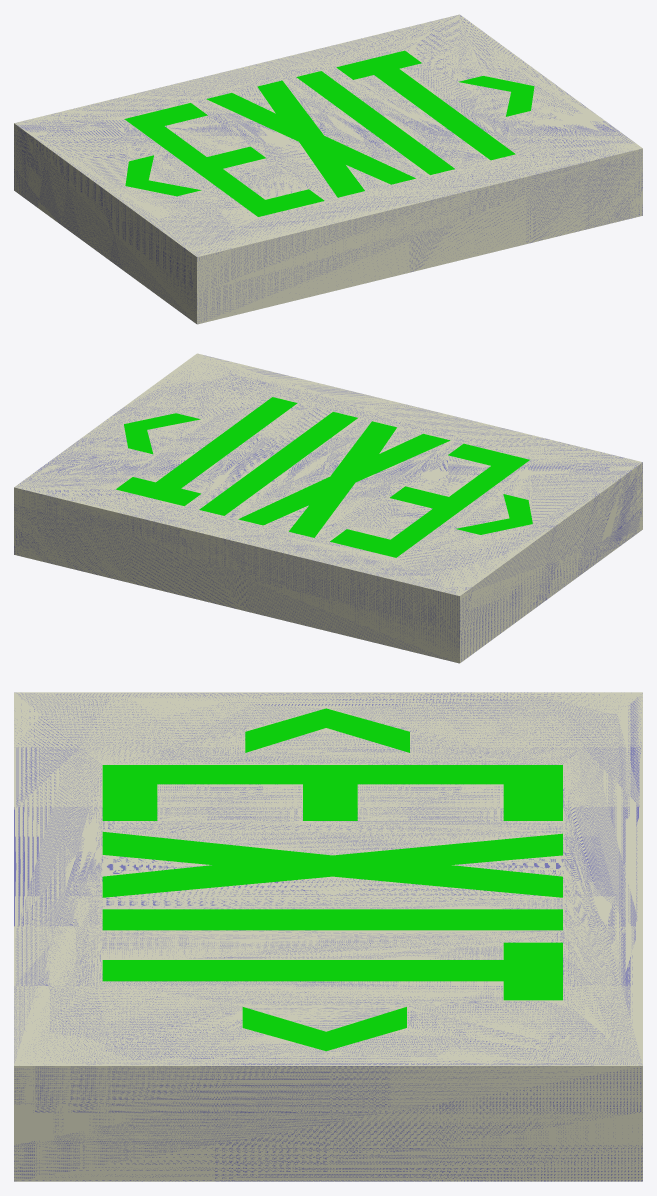
3 views of the same model, one above another, from view 1: azimuth 30°, elevation 25°; view 2: azimuth 150°, elevation 25°; view 3: azimuth 270°, elevation 25° (orthographic). The views are drawn at different scales.
Parts seen in each view (by area): view 1: SketchUp, exit_g (×6); view 2: SketchUp, exit_g (×6); view 3: SketchUp, exit_g (×6).
Boxes of the visible parts, bbox=[...] form: SketchUp: bbox=[14, 14, 642, 324]; exit_g (×6): bbox=[124, 50, 534, 216]; SketchUp: bbox=[14, 353, 642, 663]; exit_g (×6): bbox=[116, 397, 532, 557]; SketchUp: bbox=[14, 692, 642, 1181]; exit_g (×6): bbox=[102, 708, 562, 1051].
Size of the model in its own units: 12.13 by 8.62 by 1.75.
